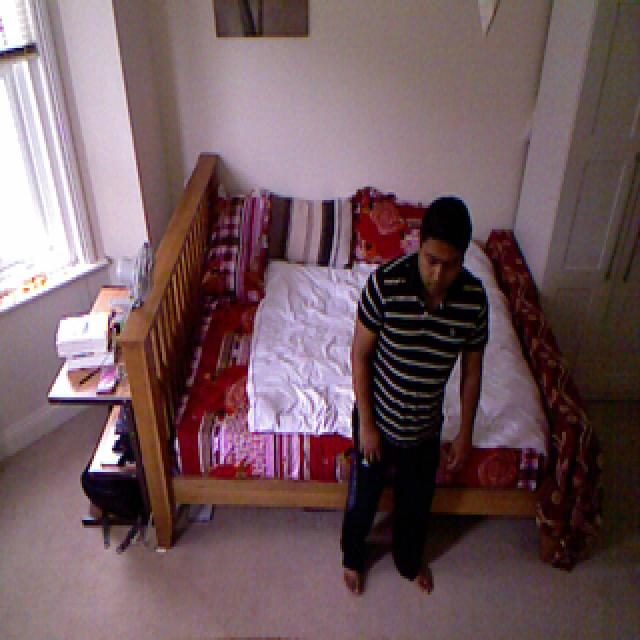standing: (346, 182, 498, 610)
